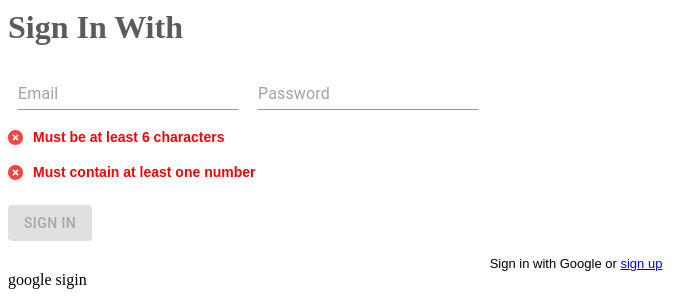
Authentication › Sign in button to be enabled after email and password are valid
In the field with placeholder "Email": (128, 94) x1=18 y1=78 x2=238 y2=110, type "user"
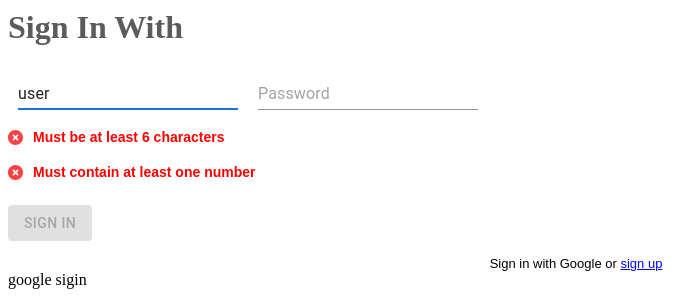
In the password field with placeholder "Password": (368, 94) x1=258 y1=78 x2=478 y2=110, type "user123"
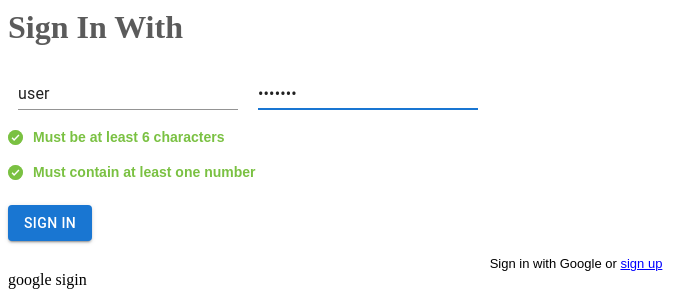
Now the button "sign In" is enabled, box x1=8 y1=205 x2=92 y2=241
